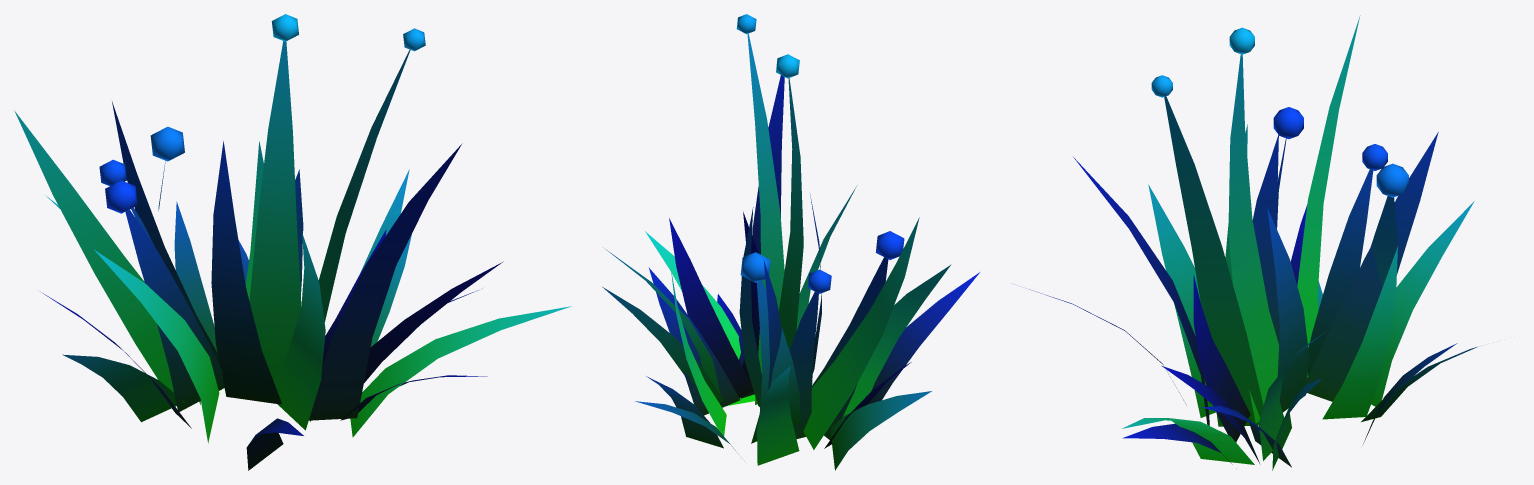
File: Grass_Flesh.fbx
The picture shows the model from 3 angles, left to right: view 1: azimuth 30°, elevation 25°; view 2: azimuth 150°, elevation 25°; view 3: azimuth 270°, elevation 25°; orthographic projection. The views are drawn at different scales.
Visible parts, largest first — view 1: _exp_Grass_Flesh; view 2: _exp_Grass_Flesh; view 3: _exp_Grass_Flesh.
Boxes of the visible parts, x1,y1,x2,y2 form: _exp_Grass_Flesh: [14, 14, 571, 470]; _exp_Grass_Flesh: [602, 14, 979, 470]; _exp_Grass_Flesh: [1029, 15, 1477, 470].
Bounding box in the file's own units: 56.83 × 52.37 × 59.02.
